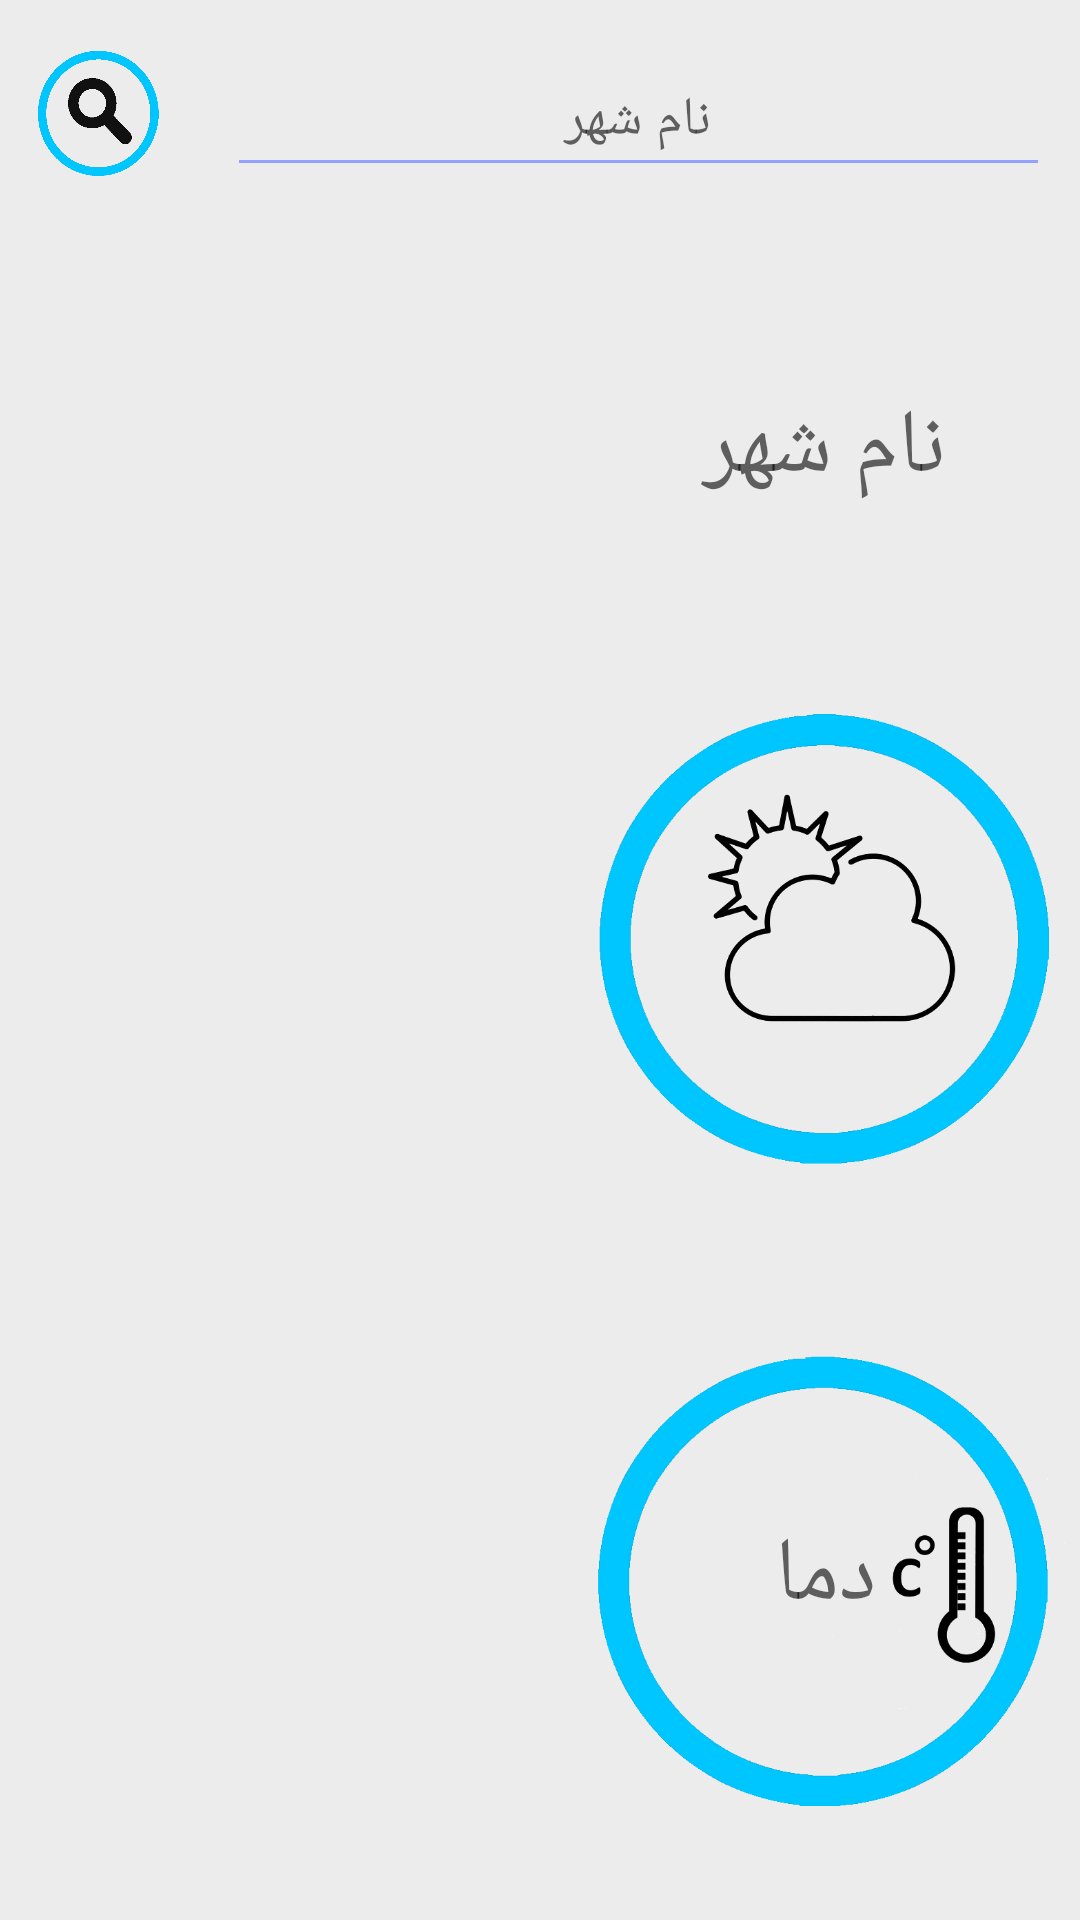

Icons on this 1080×1920 Android screen, each with its box as (x1, y1, x2, y2):
search: (38, 51, 159, 176)
